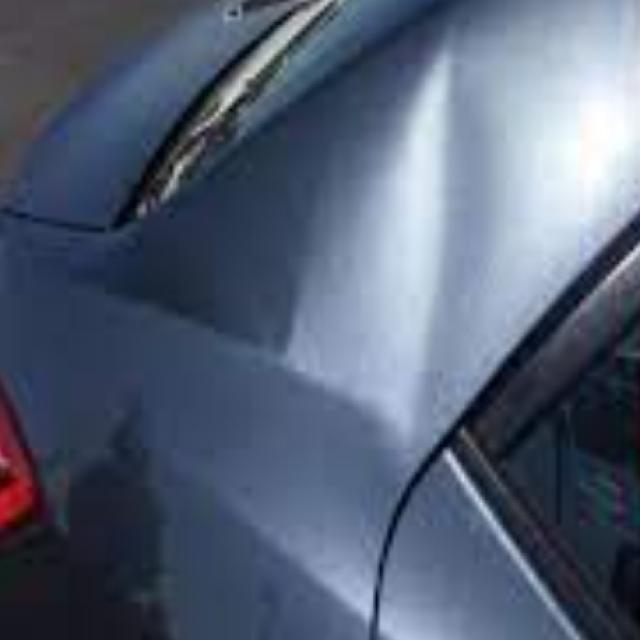dents: (326, 49, 491, 497)
